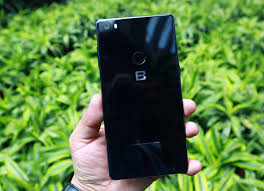bphone: (91, 11, 191, 180)
